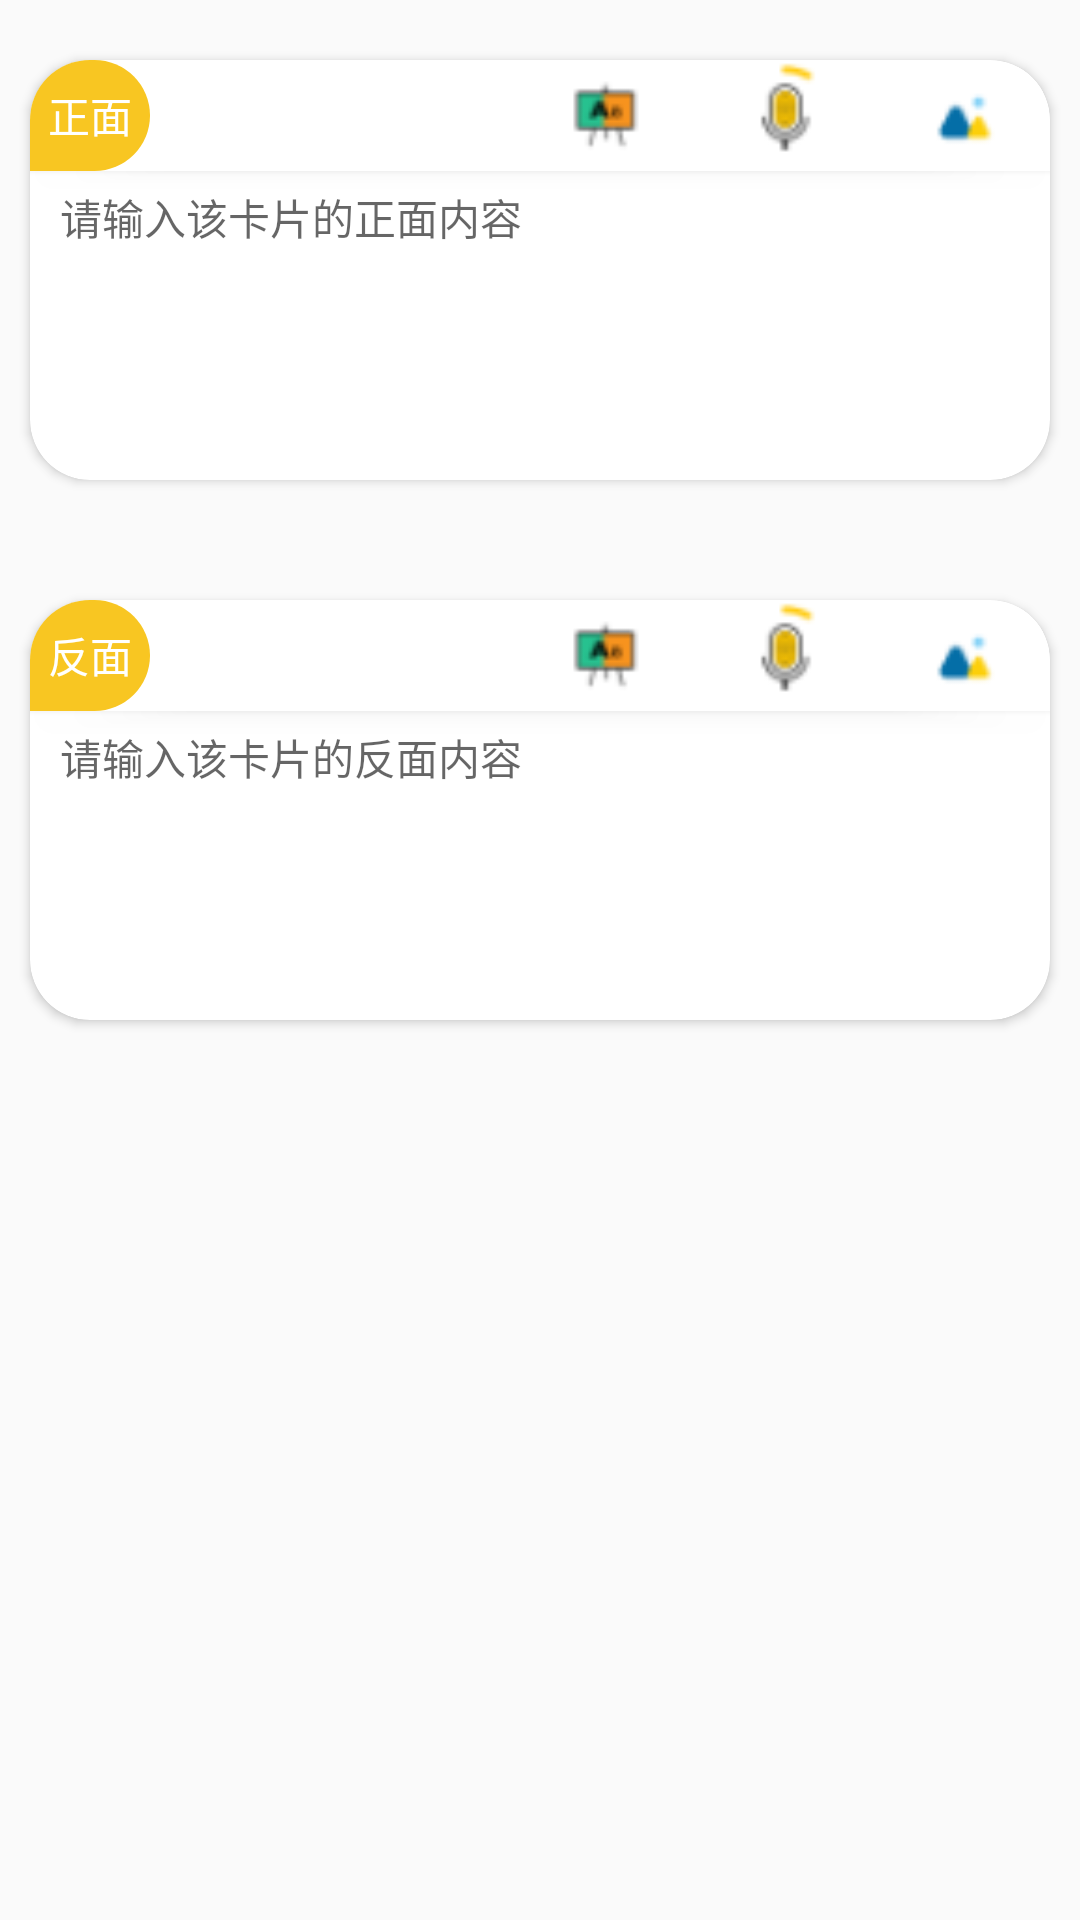

Screen size 1080w x 1920h. Icon name, then its center in pixels as (x,y):
font: (605,115), (605,655)
listen: (787,107), (787,647)
